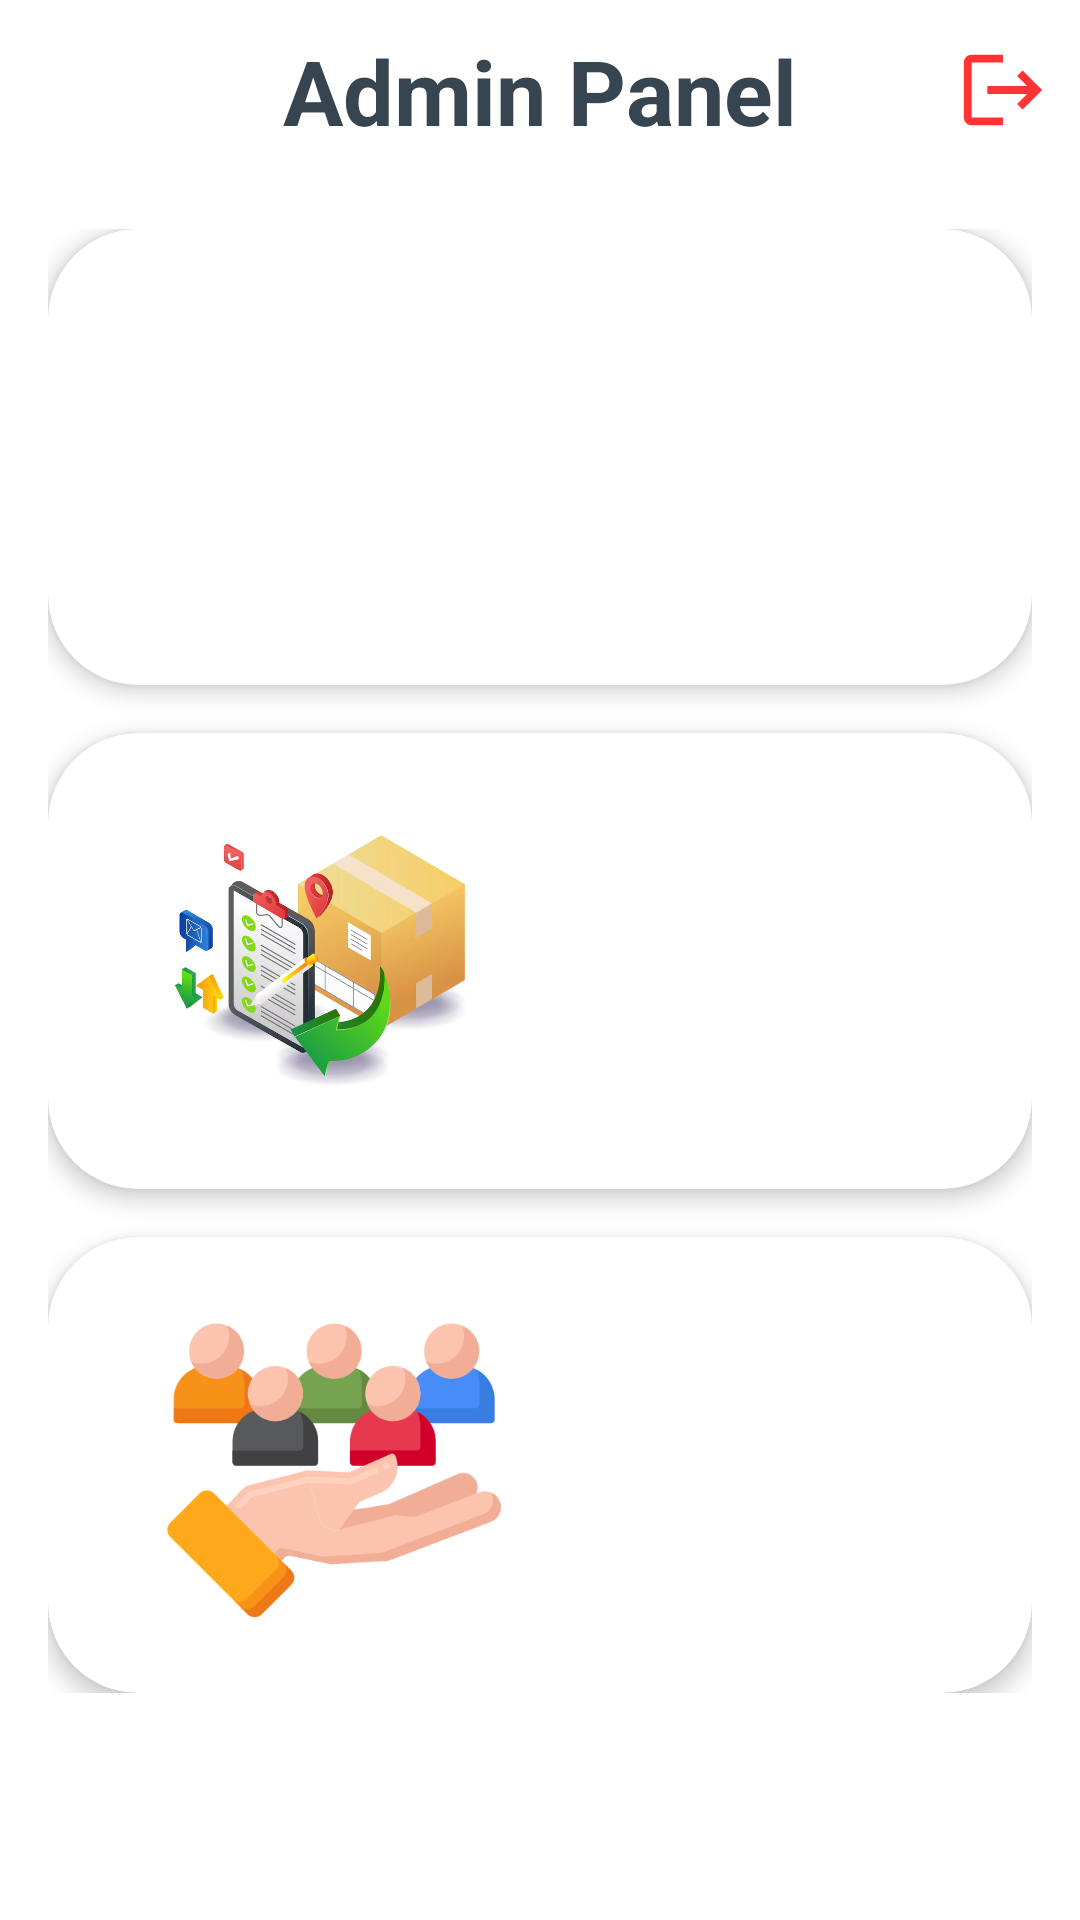

Screen size 1080w x 1920h. Icon name, then its box in pixels as [left=x1, top=y1, right=x2, bottom=y2]:
customer list: [left=167, top=1323, right=501, bottom=1618]
